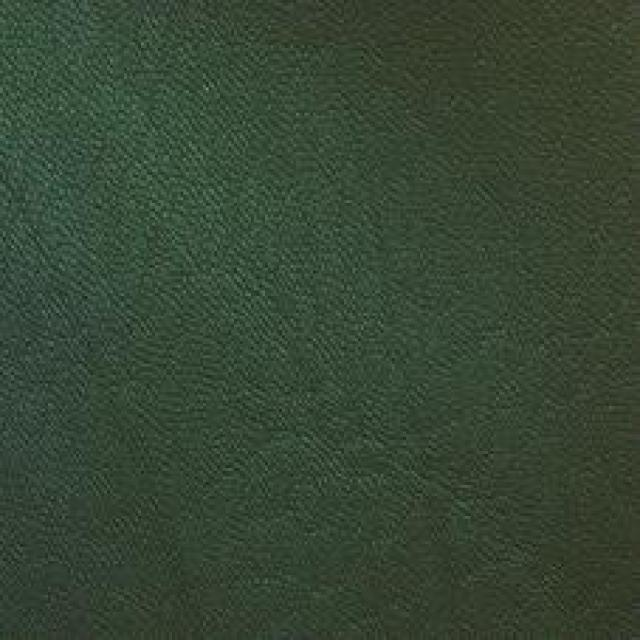Growth Marks: (17, 201, 143, 415), (247, 406, 478, 521)
